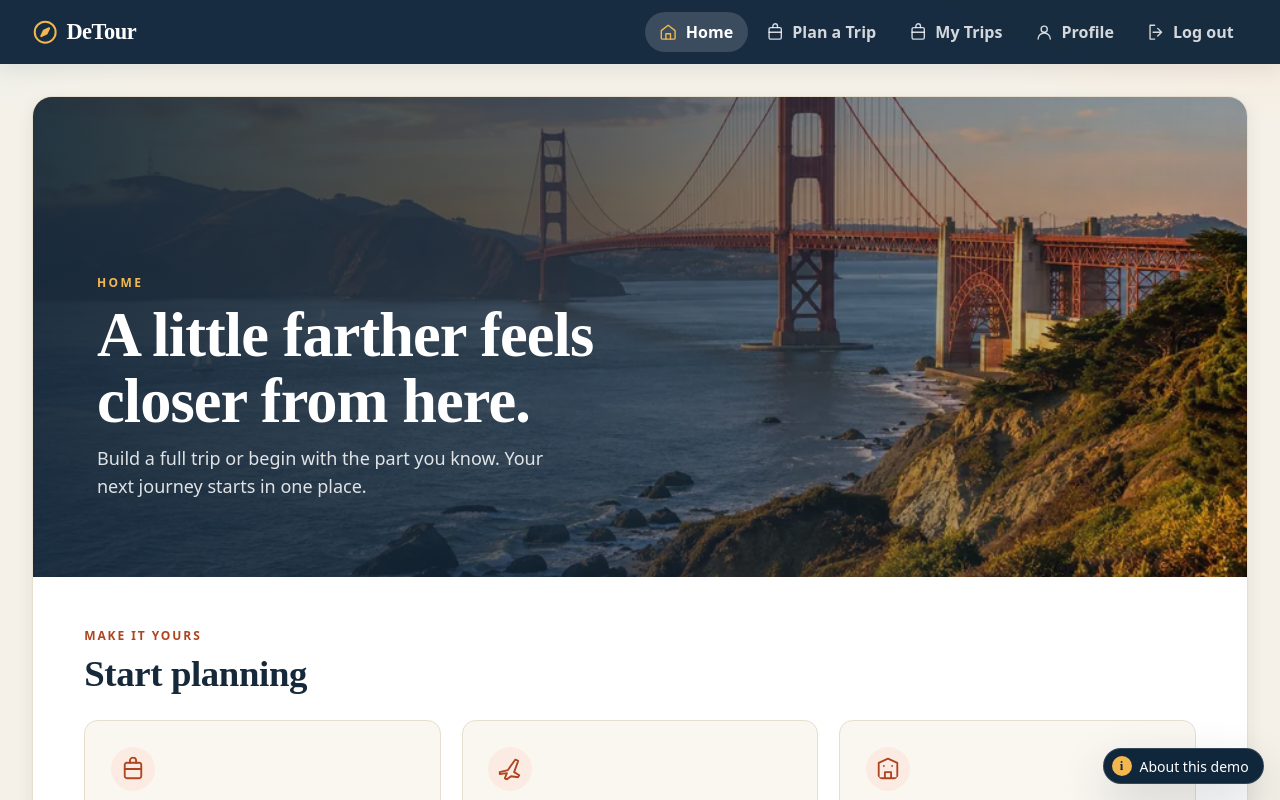
Test: App identity experience › shows the owned Trip list in Trips and account controls only in Profile
This screenshot has width=1280, height=800.
Expected: the button "Profile" is shown, [1021, 12, 1128, 52]
Expected: the button "Plan a Trip" is shown, [752, 12, 890, 52]
Click the button "My Trips" at point(956, 32), box [894, 12, 1017, 52]
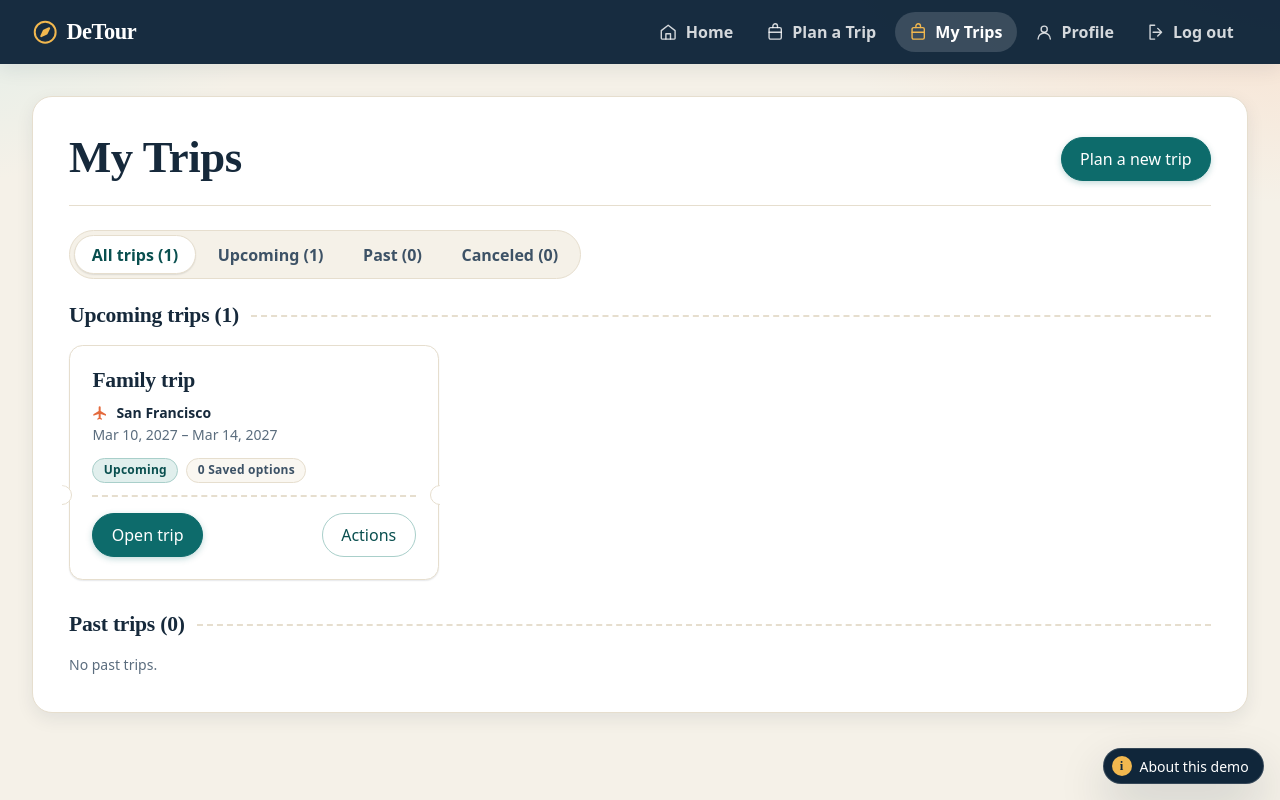
Expected: the field labelled "Trip name" is not shown
Result: the heading "Family trip" is shown at [92, 368, 195, 392]
Result: the button "Plan a new trip" is shown
Click the button "Plan a new trip" at point(1136, 159), box [1061, 137, 1211, 181]
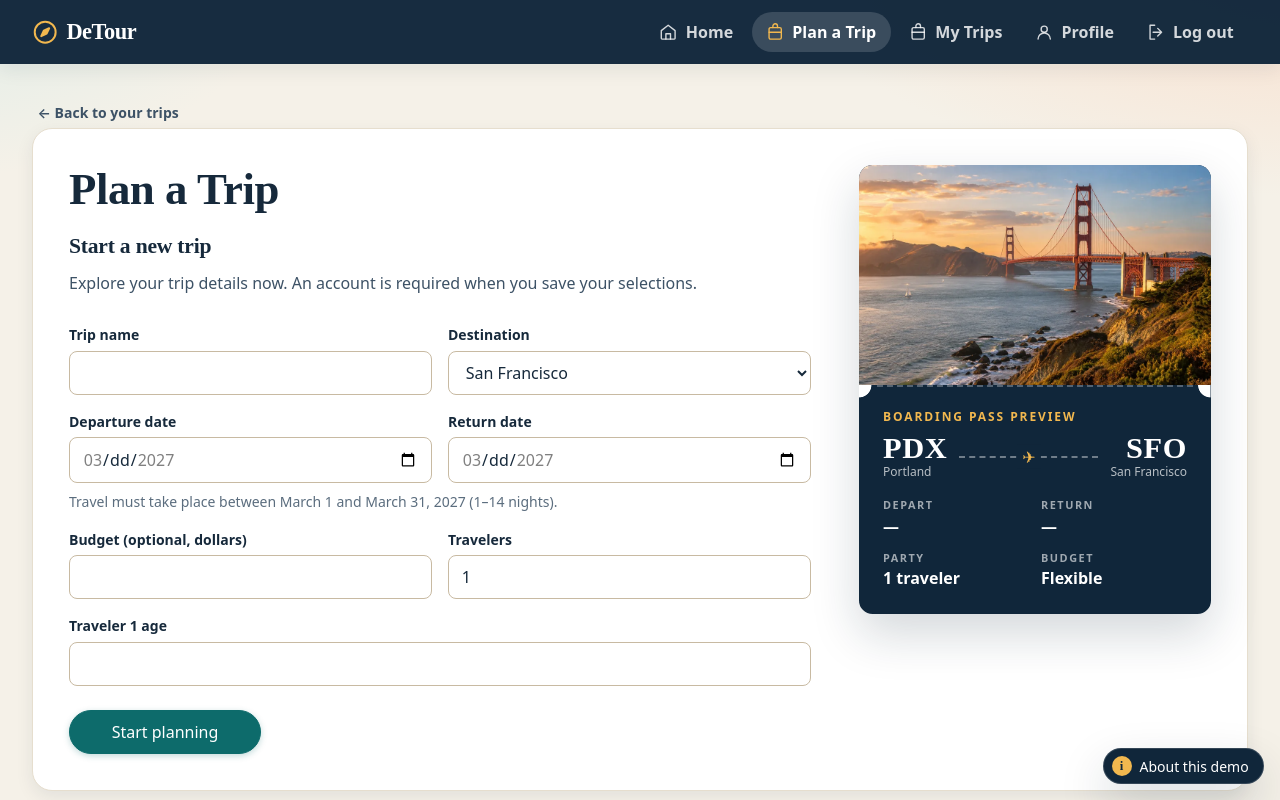
Result: the field labelled "Trip name" is shown at [69, 351, 432, 395]
Click the button "← Back to your trips" at point(108, 112), box [32, 96, 184, 128]
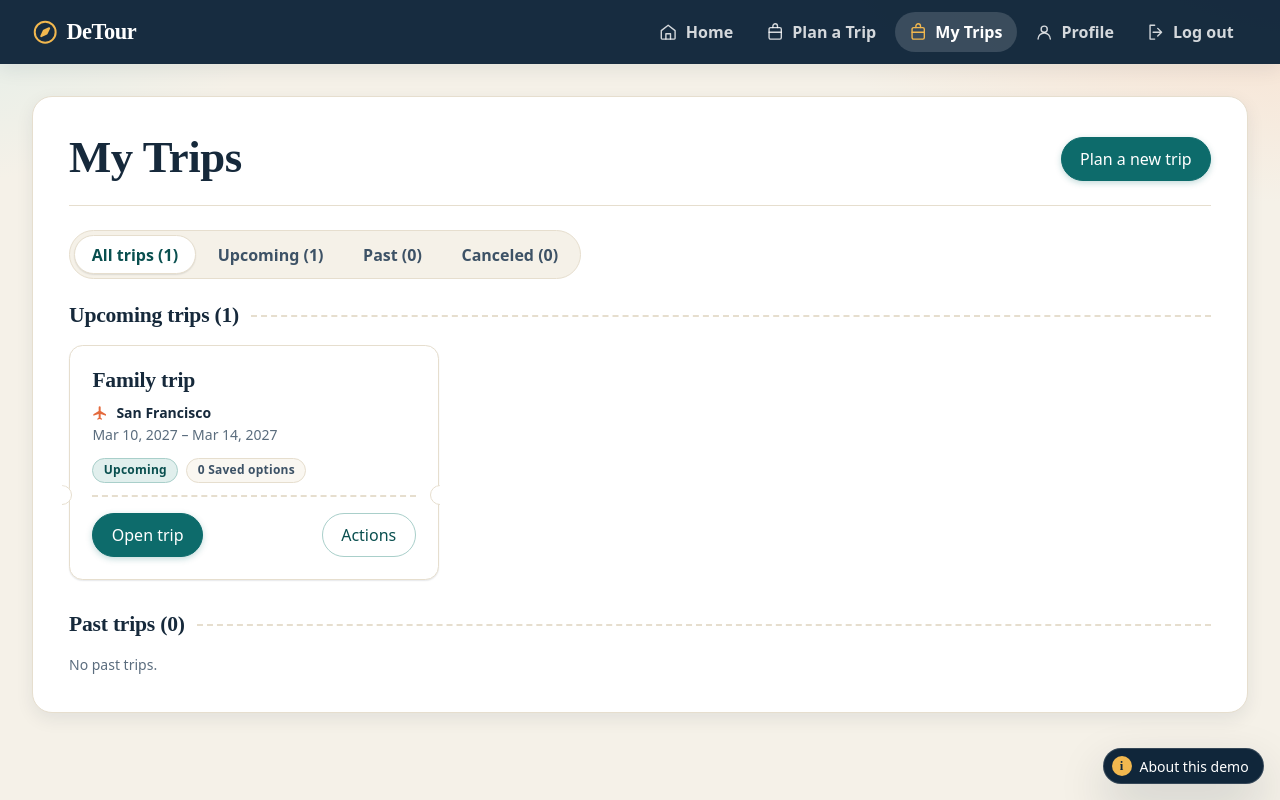
Result: the heading "Family trip" is shown at [92, 368, 195, 392]
Click the button "Profile" at point(1075, 32), box [1021, 12, 1128, 52]
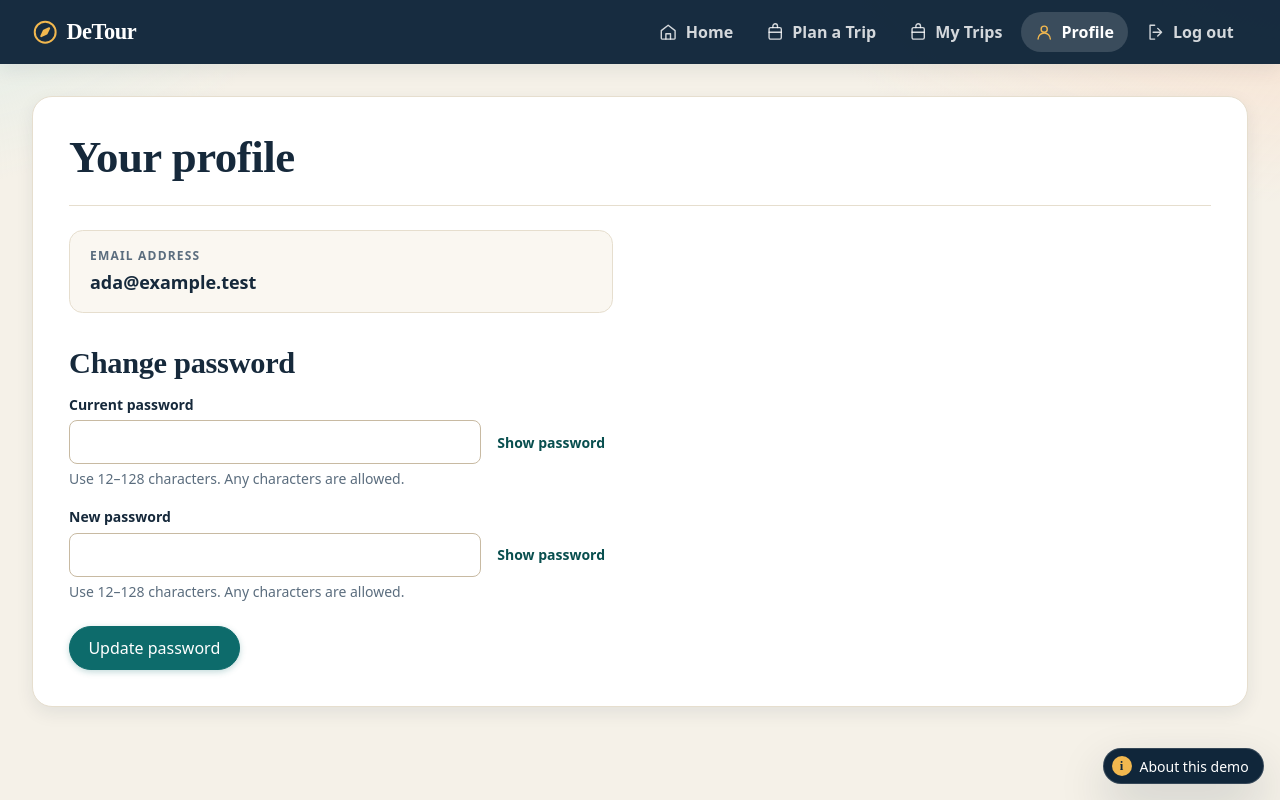
Result: the text "ada@example.test" is shown at [90, 270, 256, 294]
Result: the heading "Change password" is shown at [69, 346, 295, 380]
Result: the heading "Family trip" is gone
